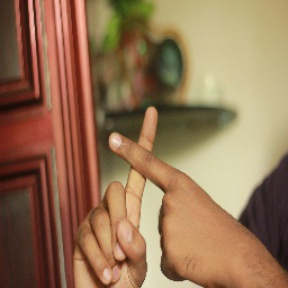X: (71, 98, 225, 242)
